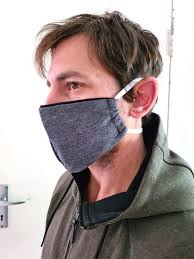with-mask: (30, 8, 160, 180)
